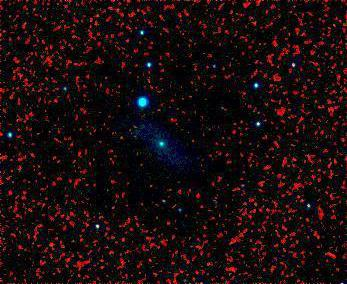star: (243, 98, 273, 128)
